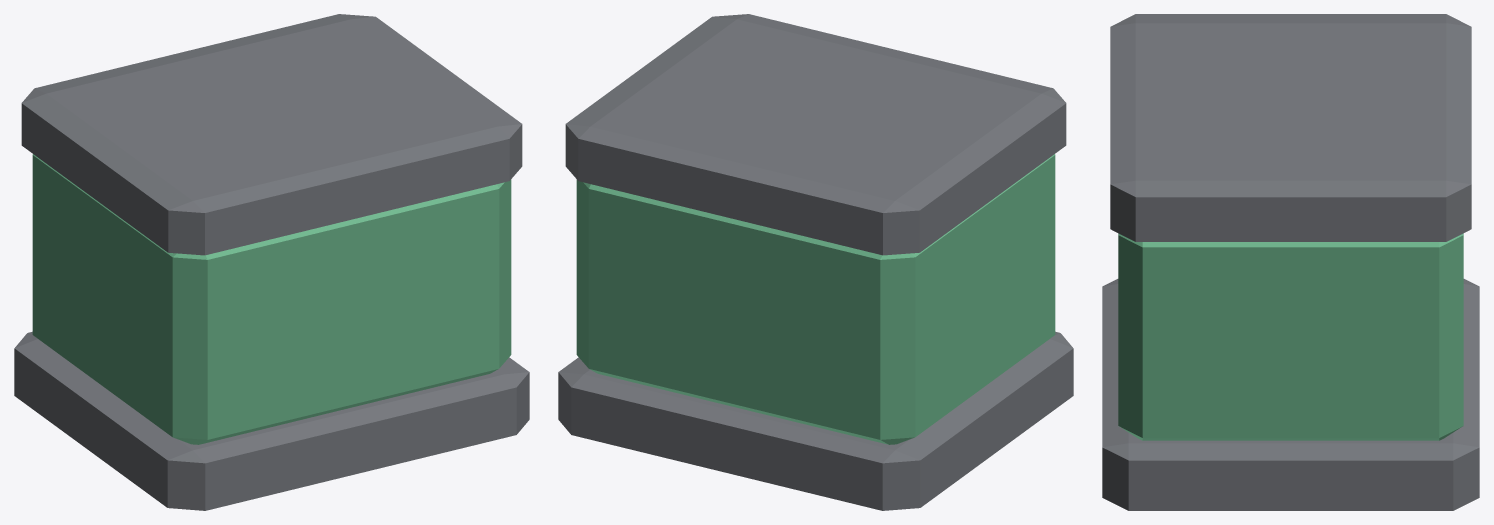
The model's file is b04_walk_behind_parking_lot_sweeper.glb.
3 renders of one model, left to right at view 1: azimuth 30°, elevation 25°; view 2: azimuth 150°, elevation 25°; view 3: azimuth 270°, elevation 25°, orthographic. The views are drawn at different scales.
Parts seen in each view (by area): view 1: b04_walk_behind_parking_lot_sweeper; view 2: b04_walk_behind_parking_lot_sweeper; view 3: b04_walk_behind_parking_lot_sweeper.
Part boxes in pixels (bbox=[...]): b04_walk_behind_parking_lot_sweeper: bbox=[14, 14, 529, 510]; b04_walk_behind_parking_lot_sweeper: bbox=[558, 14, 1073, 510]; b04_walk_behind_parking_lot_sweeper: bbox=[1102, 14, 1479, 510].
Bounding box in the file's own units: 1.3 × 1.04 × 1.11.
